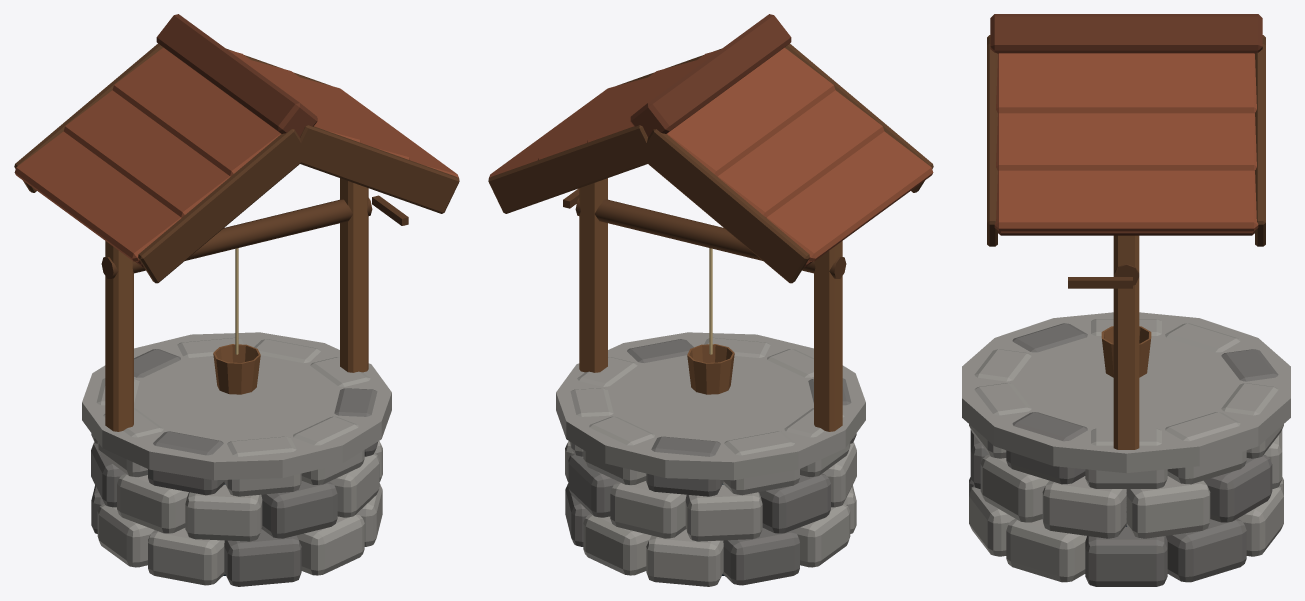
Rendered from well.glb.
The picture shows the model from 3 angles, left to right: view 1: azimuth 30°, elevation 25°; view 2: azimuth 150°, elevation 25°; view 3: azimuth 270°, elevation 25°; orthographic projection. The views are drawn at different scales.
Parts seen in each view (by area): view 1: Well; view 2: Well; view 3: Well.
Boxes of the visible parts, x1,y1,x2,y2 form: Well: (14,14,459,586); Well: (488,14,933,586); Well: (962,14,1290,586).
Bounding box in the file's own units: 1.9 × 2.63 × 1.52.
